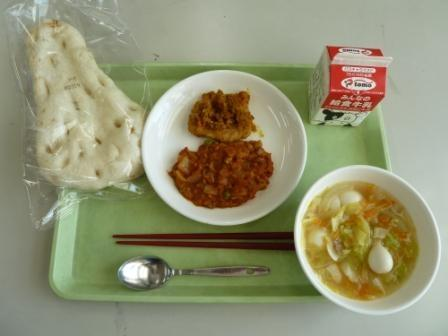Bread: (10, 13, 161, 204)
Curry: (164, 133, 285, 204)
Meat: (178, 81, 273, 141)
Milk: (305, 35, 405, 131)
Soups: (294, 172, 432, 317)
